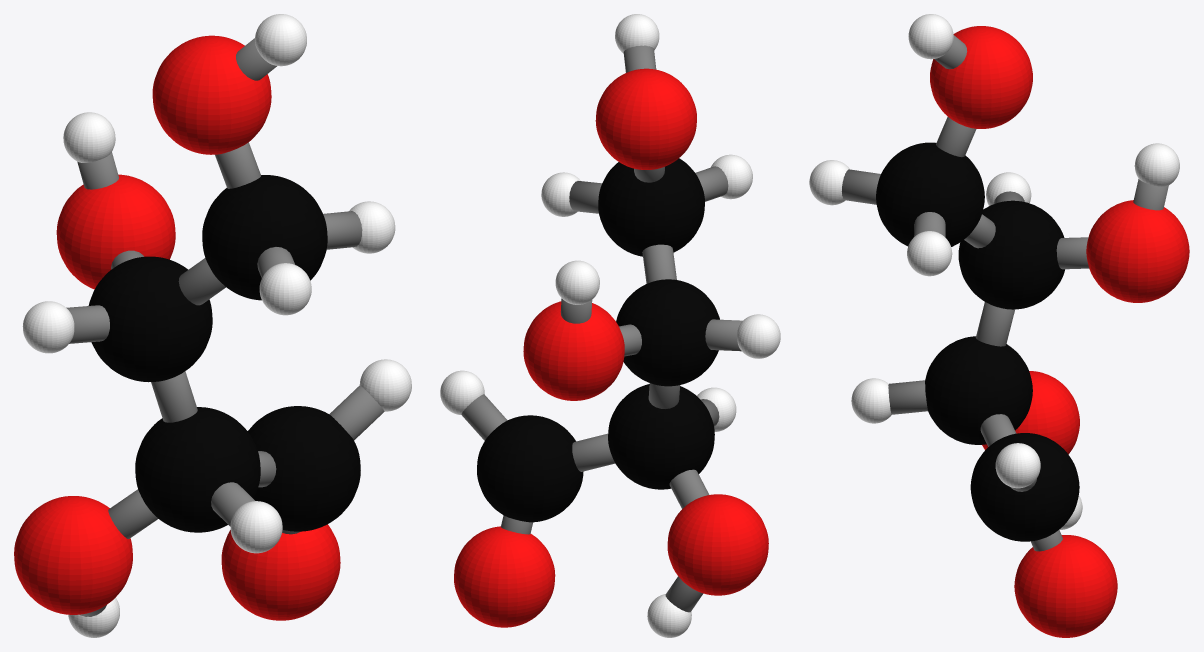
Rendered from TREOSA.obj.
3 views of the same model, side by side, from view 1: azimuth 30°, elevation 25°; view 2: azimuth 150°, elevation 25°; view 3: azimuth 270°, elevation 25° (orthographic). The views are drawn at different scales.
Parts seen in each view (by area): view 1: Carbon_ball_Sphere.002, Oxygen_ball_Sphere.001, Hydrogen_ball_Sphere, Stick_Cylinder.009_Cylinder.009, Stick_Cylinder.004_Cylinder.004, Stick_Cylinder.008_Cylinder.008, Stick_Cylinder.003_Cylinder.003, Stick_Cylinder.010_Cylinder.010, Stick_Cylinder.011_Cylinder.011, Stick_Cylinder.001_Cylinder.001, Stick_Cylinder.002_Cylinder.002, Stick_Cylinder.007_Cylinder.007 (+2 smaller); view 2: Carbon_ball_Sphere.002, Oxygen_ball_Sphere.001, Hydrogen_ball_Sphere, Stick_Cylinder.005_Cylinder.005, Stick_Cylinder.004_Cylinder.004, Stick_Cylinder.011_Cylinder.011, Stick_Cylinder.010_Cylinder.010, Stick_Cylinder.008_Cylinder.008, Stick_Cylinder.001_Cylinder.001, Stick_Cylinder.013_Cylinder.013, Stick_Cylinder.014_Cylinder.014, Stick_Cylinder_Cylinder (+3 smaller); view 3: Carbon_ball_Sphere.002, Oxygen_ball_Sphere.001, Hydrogen_ball_Sphere, Stick_Cylinder.009_Cylinder.009, Stick_Cylinder.002_Cylinder.002, Stick_Cylinder.013_Cylinder.013, Stick_Cylinder.003_Cylinder.003, Stick_Cylinder.012_Cylinder.012, Stick_Cylinder.007_Cylinder.007, Stick_Cylinder.005_Cylinder.005, Stick_Cylinder.011_Cylinder.011, Stick_Cylinder.001_Cylinder.001 (+1 smaller).
Part boxes in pixels (bbox=[...]): Carbon_ball_Sphere.002: bbox=[88, 175, 360, 532]; Oxygen_ball_Sphere.001: bbox=[14, 35, 340, 620]; Hydrogen_ball_Sphere: bbox=[22, 14, 411, 637]; Stick_Cylinder.009_Cylinder.009: bbox=[151, 371, 197, 422]; Stick_Cylinder.004_Cylinder.004: bbox=[329, 385, 384, 440]; Stick_Cylinder.008_Cylinder.008: bbox=[108, 489, 158, 538]; Stick_Cylinder.003_Cylinder.003: bbox=[215, 142, 261, 188]; Stick_Cylinder.010_Cylinder.010: bbox=[66, 305, 109, 343]; Stick_Cylinder.011_Cylinder.011: bbox=[178, 258, 225, 305]; Stick_Cylinder.001_Cylinder.001: bbox=[323, 211, 362, 249]; Stick_Cylinder.002_Cylinder.002: bbox=[211, 482, 254, 526]; Stick_Cylinder.007_Cylinder.007: bbox=[77, 152, 118, 189]; Carbon_ball_Sphere.002: bbox=[477, 158, 719, 522]; Oxygen_ball_Sphere.001: bbox=[454, 68, 768, 627]; Hydrogen_ball_Sphere: bbox=[440, 14, 780, 637]; Stick_Cylinder.005_Cylinder.005: bbox=[572, 433, 615, 471]; Stick_Cylinder.004_Cylinder.004: bbox=[461, 394, 507, 440]; Stick_Cylinder.011_Cylinder.011: bbox=[642, 244, 676, 283]; Stick_Cylinder.010_Cylinder.010: bbox=[705, 319, 742, 351]; Stick_Cylinder.008_Cylinder.008: bbox=[669, 469, 709, 508]; Stick_Cylinder.001_Cylinder.001: bbox=[569, 181, 601, 213]; Stick_Cylinder.013_Cylinder.013: bbox=[695, 166, 728, 201]; Stick_Cylinder.014_Cylinder.014: bbox=[665, 576, 703, 612]; Stick_Cylinder_Cylinder: bbox=[623, 45, 656, 72]; Carbon_ball_Sphere.002: bbox=[876, 142, 1079, 541]; Oxygen_ball_Sphere.001: bbox=[930, 26, 1189, 637]; Hydrogen_ball_Sphere: bbox=[809, 14, 1179, 529]; Stick_Cylinder.009_Cylinder.009: bbox=[975, 302, 1015, 346]; Stick_Cylinder.002_Cylinder.002: bbox=[888, 380, 927, 414]; Stick_Cylinder.013_Cylinder.013: bbox=[841, 169, 880, 204]; Stick_Cylinder.003_Cylinder.003: bbox=[936, 117, 976, 157]; Stick_Cylinder.012_Cylinder.012: bbox=[1056, 237, 1089, 269]; Stick_Cylinder.007_Cylinder.007: bbox=[1133, 179, 1168, 210]; Stick_Cylinder.005_Cylinder.005: bbox=[980, 414, 1016, 446]; Stick_Cylinder.011_Cylinder.011: bbox=[964, 214, 995, 248]; Stick_Cylinder.001_Cylinder.001: bbox=[914, 212, 945, 237].
Bounding box in the file's own units: 4.93 × 8.2 × 4.84.
